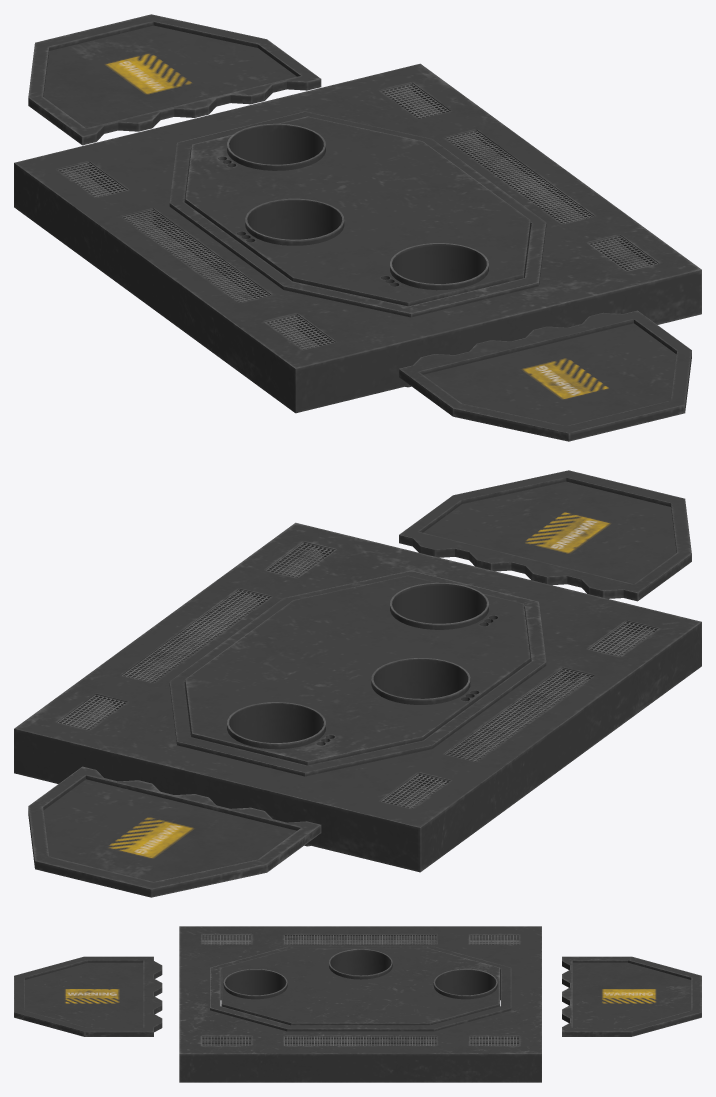
The model's file is Шлюз.glb.
3 renders of one model, top to bottom at view 1: azimuth 30°, elevation 25°; view 2: azimuth 150°, elevation 25°; view 3: azimuth 270°, elevation 25°, orthographic. The views are drawn at different scales.
Parts seen in each view (by area): view 1: Куб, Куб.004, Куб.001, Куб.002, Куб.006, Куб.007, Цилиндр.002, Цилиндр.004; view 2: Куб, Куб.004, Куб.001, Куб.002, Куб.006, Куб.007, Цилиндр.002, Цилиндр.004; view 3: Куб, Куб.004, Куб.001, Куб.002, Куб.006, Куб.007, Цилиндр.002, Цилиндр.004.
Boxes of the visible parts, x1,y1,x2,y2 form: Куб: (14, 63, 701, 413); Куб.004: (185, 116, 530, 387); Куб.001: (399, 310, 691, 441); Куб.002: (28, 14, 321, 145); Куб.006: (122, 130, 593, 302); Куб.007: (58, 83, 657, 349); Цилиндр.002: (127, 135, 583, 302); Цилиндр.004: (62, 88, 648, 349); Куб: (14, 522, 701, 872); Куб.004: (185, 575, 530, 846); Куб.001: (399, 470, 691, 601); Куб.002: (28, 766, 321, 897); Куб.006: (122, 589, 593, 761); Куб.007: (58, 542, 657, 808); Цилиндр.002: (132, 594, 588, 761); Цилиндр.004: (67, 547, 653, 808); Куб: (179, 926, 541, 1082); Куб.004: (221, 948, 499, 1025); Куб.001: (14, 956, 162, 1036); Куб.002: (562, 956, 701, 1036); Куб.006: (284, 934, 436, 1045); Куб.007: (201, 934, 519, 1045); Цилиндр.002: (285, 939, 436, 1045); Цилиндр.004: (202, 939, 518, 1045).
Size of the model in its own units: 5 by 1.06 by 11.38.
1 material, 1 textured.
